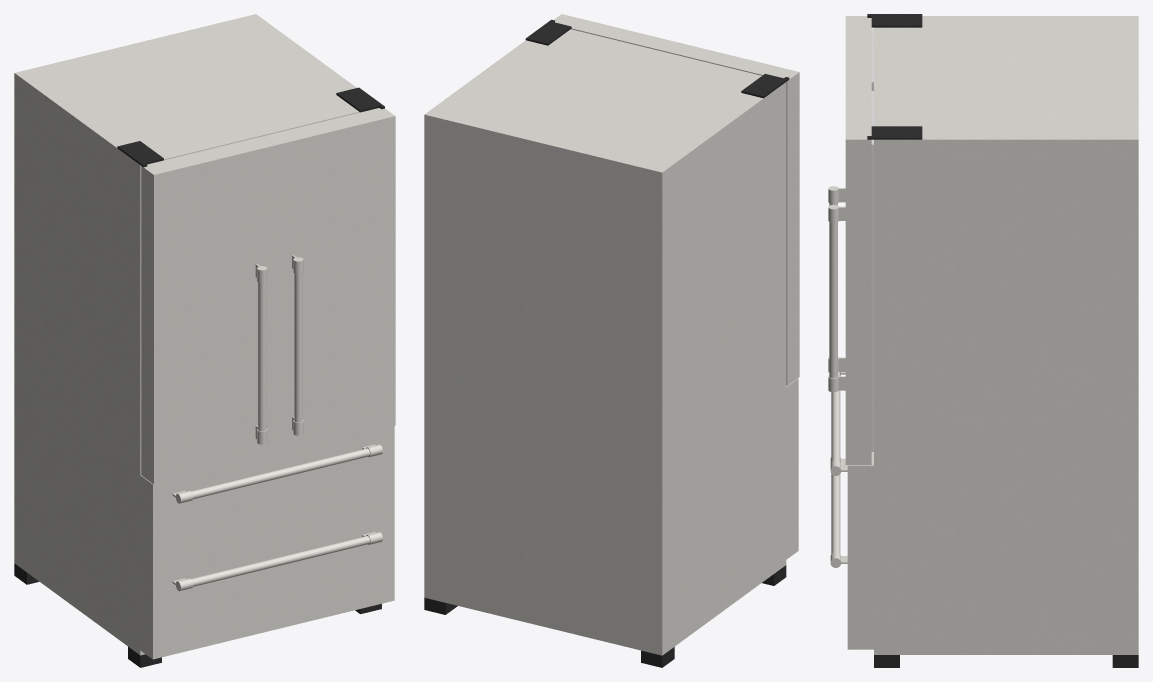
File: Refrigerator06.fbx
3 views of the same model, side by side, from view 1: azimuth 30°, elevation 25°; view 2: azimuth 150°, elevation 25°; view 3: azimuth 270°, elevation 25° (orthographic). The views are drawn at different scales.
Parts seen in each view (by area): view 1: Refrigerator06, Refrigerator06_Door02, Refrigerator06_Door02.001, Refrigerator04_Door03.002, Refrigerator04_Door03.001; view 2: Refrigerator06, Refrigerator06_Door02, Refrigerator06_Door02.001, Refrigerator04_Door03.001, Refrigerator04_Door03.002; view 3: Refrigerator06, Refrigerator06_Door02.001, Refrigerator04_Door03.002, Refrigerator04_Door03.001, Refrigerator06_Door02.
Boxes of the visible parts, x1=… form: Refrigerator06: x1=14, y1=14, x2=384, y2=667; Refrigerator06_Door02: x1=141, y1=136, x2=274, y2=484; Refrigerator06_Door02.001: x1=262, y1=108, x2=395, y2=454; Refrigerator04_Door03.002: x1=140, y1=513, x2=394, y2=659; Refrigerator04_Door03.001: x1=140, y1=426, x2=394, y2=571; Refrigerator06: x1=424, y1=19, x2=789, y2=667; Refrigerator06_Door02: x1=668, y1=43, x2=799, y2=385; Refrigerator06_Door02.001: x1=554, y1=14, x2=680, y2=52; Refrigerator04_Door03.001: x1=786, y1=378, x2=798, y2=473; Refrigerator04_Door03.002: x1=786, y1=465, x2=798, y2=559; Refrigerator06: x1=867, y1=14, x2=1138, y2=667; Refrigerator06_Door02.001: x1=828, y1=78, x2=873, y2=464; Refrigerator04_Door03.002: x1=830, y1=457, x2=873, y2=649; Refrigerator04_Door03.001: x1=830, y1=372, x2=873, y2=557; Refrigerator06_Door02: x1=828, y1=16, x2=873, y2=372.
Bounding box in the file's own units: 92.87 × 185 × 98.34.
